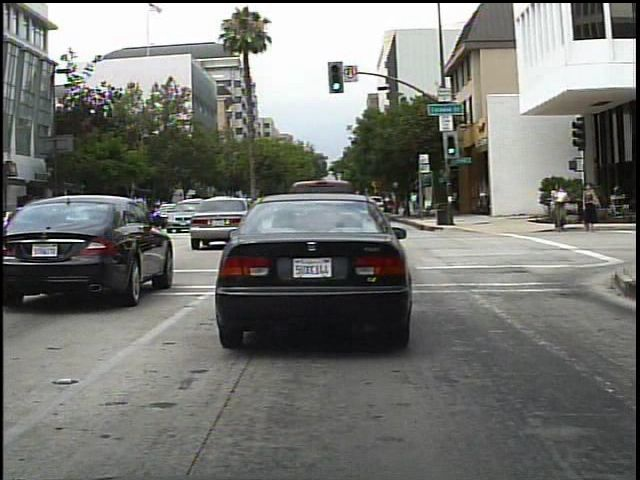person: (546, 179, 573, 235), (577, 181, 604, 235), (406, 188, 423, 220)
